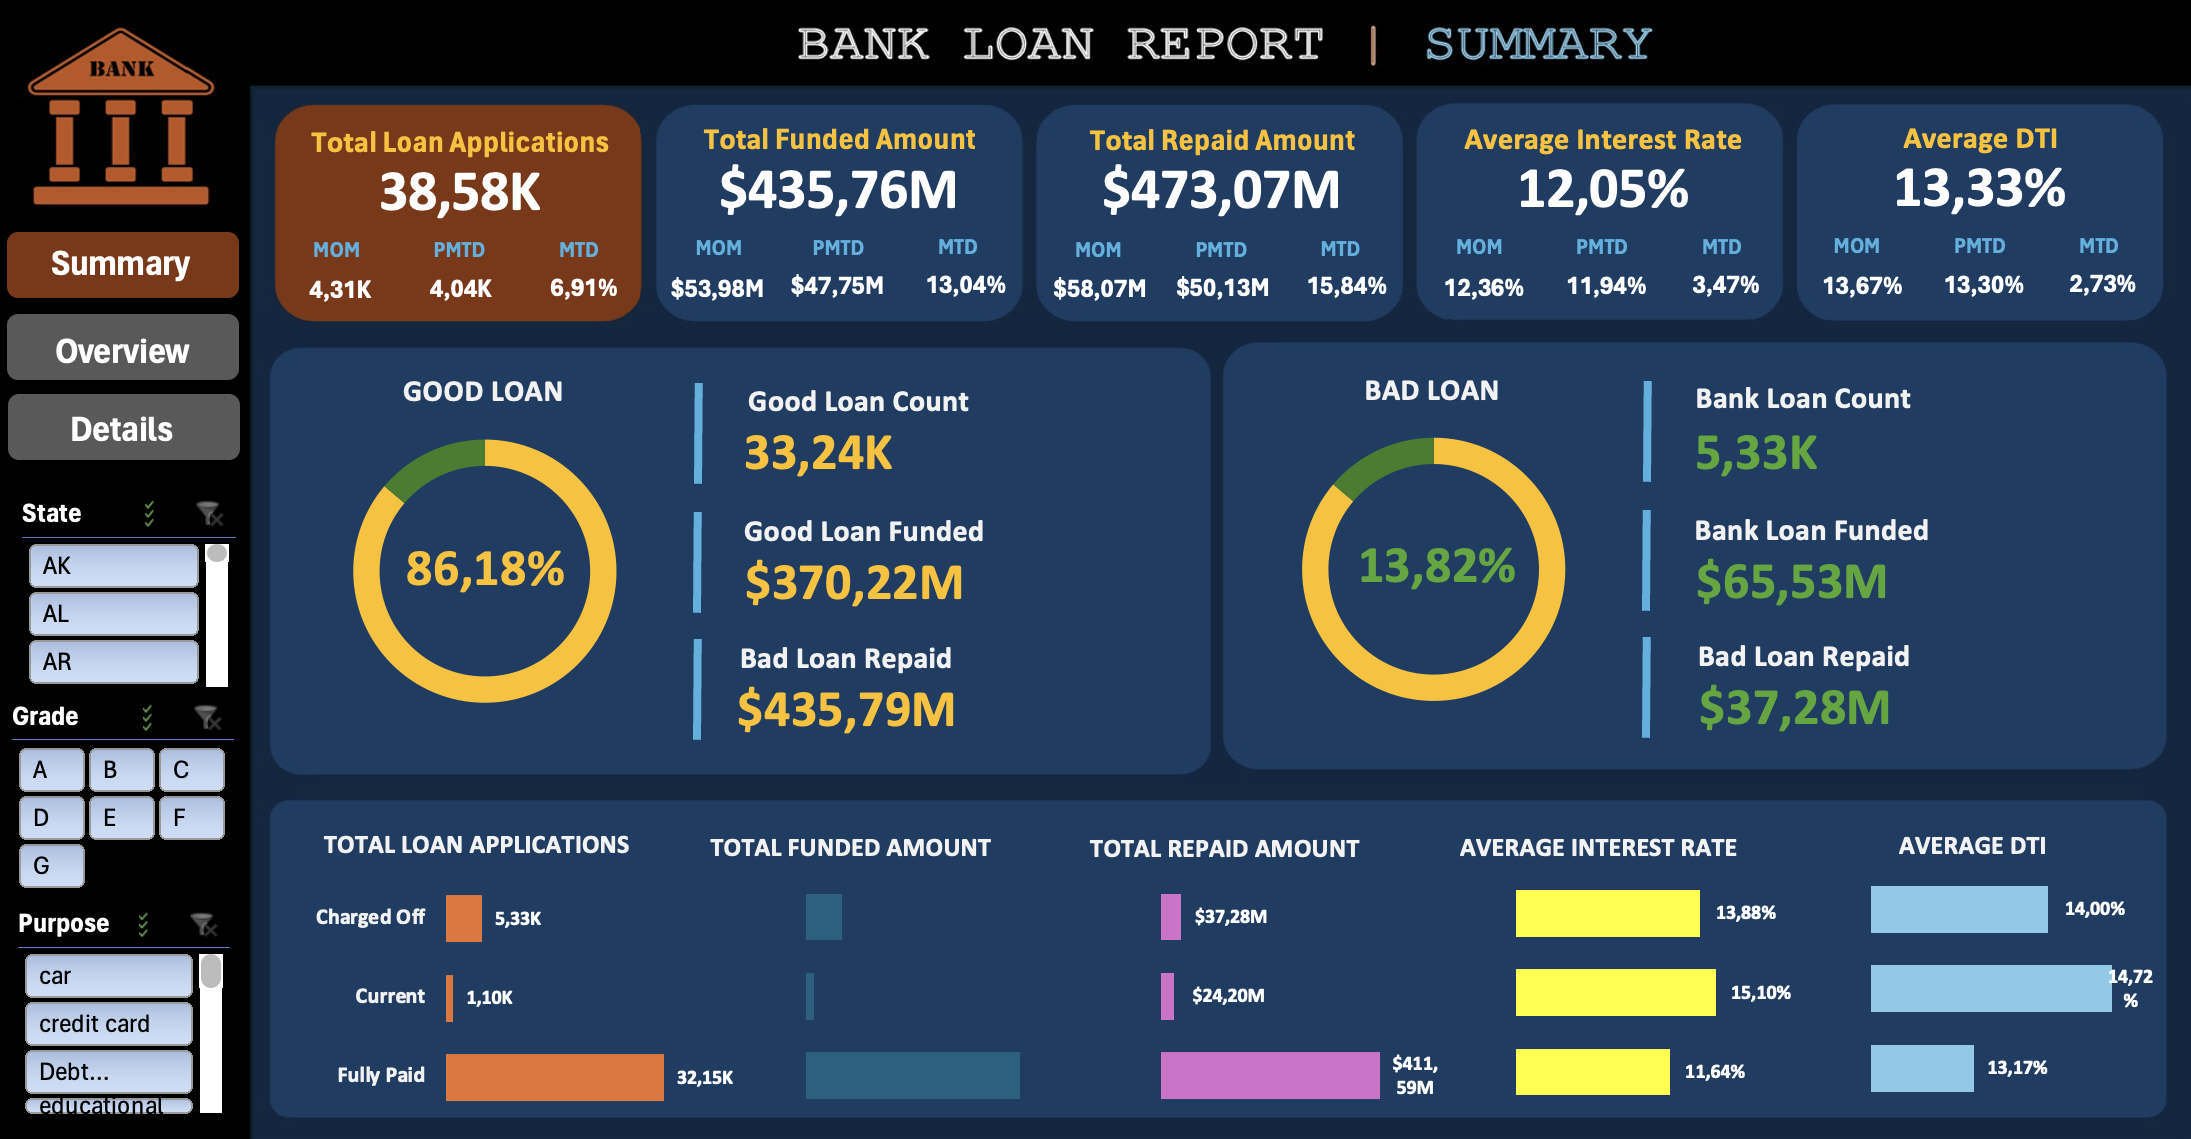

The dashboard page shown, as its layout file describes it:
{"tool":"tableau","page":{"name":"SUMMARY","canvas":[1600,900],"ordinal":2},"visuals":[{"type":"image","param":"/Users/arafathjazeeb/Library/CloudStorage/OneDrive-UniversityofPisa/Data Analyst","box":[8,8,1584,884]},{"type":"worksheet","title":"TRA","mark":"Automatic","box":[770,100,238,81]},{"type":"worksheet","title":"AIR","mark":"Automatic","box":[1037,101,241,77]},{"type":"worksheet","title":"DTI","mark":"Automatic","box":[1307,101,241,72]},{"type":"worksheet","title":"TFA","mark":"Automatic","box":[498,102,241,83]},{"type":"worksheet","title":"TLA","mark":"Automatic","box":[229,103,242,82]},{"type":"text","box":[1328,184,33,30]},{"type":"text","box":[1409,184,39,30]},{"type":"text","box":[1483,184,39,30]},{"type":"text","box":[252,185,33,30]},{"type":"text","box":[333,185,39,30]},{"type":"text","box":[410,185,39,30]},{"type":"text","box":[1065,185,33,30]},{"type":"text","box":[1141,185,39,30]},{"type":"text","box":[1215,185,39,30]},{"type":"text","box":[795,186,33,30]},{"type":"text","box":[869,186,39,30]},{"type":"text","box":[946,186,39,30]},{"type":"text","box":[524,188,33,30]},{"type":"text","box":[601,188,39,30]},{"type":"text","box":[675,188,39,30]},{"type":"worksheet","title":"MTD_AIR","mark":"Automatic","box":[1043,203,77,53]},{"type":"worksheet","title":"PMTD_TLA","mark":"Automatic","box":[310,207,86,43]},{"type":"worksheet","title":"MTD_TFA","mark":"Automatic","box":[501,207,75,46]},{"type":"worksheet","title":"MTD_TRA","mark":"Automatic","box":[768,208,84,43]},{"type":"worksheet","title":"PMTD_AIR","mark":"Automatic","box":[1121,208,84,44]},{"type":"worksheet","title":"PMTD_DTI","mark":"Automatic","box":[1390,208,82,39]},{"type":"dashboard-object","box":[31,209,164,52]},{"type":"worksheet","title":"MOM_TFA","mark":"Automatic","box":[654,209,87,41]},{"type":"worksheet","title":"MTD_DTI","mark":"Automatic","box":[1309,209,73,39]},{"type":"worksheet","title":"PMTD_TFA","mark":"Automatic","box":[581,210,81,39]},{"type":"worksheet","title":"MOM_DTI","mark":"Automatic","box":[1472,210,70,34]},{"type":"worksheet","title":"MTD_TLA","mark":"Automatic","box":[229,211,71,33]},{"type":"worksheet","title":"PMTD_TRA","mark":"Automatic","box":[853,211,76,38]},{"type":"worksheet","title":"MOM_TRA","mark":"Automatic","box":[926,211,79,38]},{"type":"worksheet","title":"MOM_AIR","mark":"Automatic","box":[1197,211,86,36]},{"type":"worksheet","title":"MOM_TLA","mark":"Automatic","box":[392,212,68,32]},{"type":"dashboard-object","box":[30,274,164,52]},{"type":"worksheet","title":"Bad Loan Issued","mark":"Pie","rows":["Calculation_5259571078684729375","Calculation_5259571078684729375"],"box":[911,286,311,306]},{"type":"worksheet","title":"Good Loan Issued","mark":"Pie","rows":["Calculation_5259571078684729375","Calculation_5259571078684729375"],"box":[233,291,311,306]},{"type":"worksheet","title":"Bad Loan Count","mark":"Automatic","box":[1238,315,311,80]},{"type":"worksheet","title":"Good Loan Count","mark":"Automatic","box":[559,318,311,80]},{"type":"dashboard-object","box":[29,339,164,52]},{"type":"worksheet","title":"Bad Loan Funded","mark":"Automatic","box":[1238,409,311,80]},{"type":"worksheet","title":"Good Loan Funded","mark":"Automatic","box":[557,413,311,80]},{"type":"worksheet","title":"Bad Loan %","mark":"Automatic","box":[982,422,173,69]},{"type":"worksheet","title":"Good Loan %","mark":"Automatic","box":[312,428,155,67]},{"type":"worksheet","title":"Bad Loan Repaid","mark":"Automatic","box":[1239,502,311,80]},{"type":"worksheet","title":"Good Loan Repaid","mark":"Automatic","box":[557,506,311,80]},{"type":"filter","title":"Good Loan Issued","param":"[federated.19laxnm011tjax19or1he1sgg5cj].[none:verification_status:nk]","box":[34,617,160,58]},{"type":"worksheet","title":"LOAN STATUS","mark":"Automatic","rows":["loan_status"],"box":[227,636,1324,222]},{"type":"filter","title":"Good Loan Issued","param":"[federated.19laxnm011tjax19or1he1sgg5cj].[none:address_state:nk]","box":[34,675,160,54]},{"type":"filter","title":"Good Loan Issued","param":"[federated.19laxnm011tjax19or1he1sgg5cj].[none:grade:nk]","box":[33,736,160,49]},{"type":"filter","title":"Good Loan Issued","param":"[federated.19laxnm011tjax19or1he1sgg5cj].[none:purpose:nk]","box":[32,795,160,60]}]}

Visuals, with their boxes on the page's 1600x900 design canvas (x1, y1, x2, y2). These are canvas units, not pixel positions in the 2191x1139 screenshot, which may show the page scaled, cropped or inside an application window:
image: bbox=[8, 8, 1592, 892]
"TRA" worksheet: bbox=[770, 100, 1008, 181]
"AIR" worksheet: bbox=[1037, 101, 1278, 178]
"DTI" worksheet: bbox=[1307, 101, 1548, 173]
"TFA" worksheet: bbox=[498, 102, 739, 185]
"TLA" worksheet: bbox=[229, 103, 471, 185]
text: bbox=[1328, 184, 1361, 214]
text: bbox=[1409, 184, 1448, 214]
text: bbox=[1483, 184, 1522, 214]
text: bbox=[252, 185, 285, 215]
text: bbox=[333, 185, 372, 215]
text: bbox=[410, 185, 449, 215]
text: bbox=[1065, 185, 1098, 215]
text: bbox=[1141, 185, 1180, 215]
text: bbox=[1215, 185, 1254, 215]
text: bbox=[795, 186, 828, 216]
text: bbox=[869, 186, 908, 216]
text: bbox=[946, 186, 985, 216]
text: bbox=[524, 188, 557, 218]
text: bbox=[601, 188, 640, 218]
text: bbox=[675, 188, 714, 218]
"MTD_AIR" worksheet: bbox=[1043, 203, 1120, 256]
"PMTD_TLA" worksheet: bbox=[310, 207, 396, 250]
"MTD_TFA" worksheet: bbox=[501, 207, 576, 253]
"MTD_TRA" worksheet: bbox=[768, 208, 852, 251]
"PMTD_AIR" worksheet: bbox=[1121, 208, 1205, 252]
"PMTD_DTI" worksheet: bbox=[1390, 208, 1472, 247]
dashboard-object: bbox=[31, 209, 195, 261]
"MOM_TFA" worksheet: bbox=[654, 209, 741, 250]
"MTD_DTI" worksheet: bbox=[1309, 209, 1382, 248]
"PMTD_TFA" worksheet: bbox=[581, 210, 662, 249]
"MOM_DTI" worksheet: bbox=[1472, 210, 1542, 244]
"MTD_TLA" worksheet: bbox=[229, 211, 300, 244]
"PMTD_TRA" worksheet: bbox=[853, 211, 929, 249]
"MOM_TRA" worksheet: bbox=[926, 211, 1005, 249]
"MOM_AIR" worksheet: bbox=[1197, 211, 1283, 247]
"MOM_TLA" worksheet: bbox=[392, 212, 460, 244]
dashboard-object: bbox=[30, 274, 194, 326]
"Bad Loan Issued" worksheet (Pie marks): bbox=[911, 286, 1222, 592]
"Good Loan Issued" worksheet (Pie marks): bbox=[233, 291, 544, 597]
"Bad Loan Count" worksheet: bbox=[1238, 315, 1549, 395]
"Good Loan Count" worksheet: bbox=[559, 318, 870, 398]
dashboard-object: bbox=[29, 339, 193, 391]
"Bad Loan Funded" worksheet: bbox=[1238, 409, 1549, 489]
"Good Loan Funded" worksheet: bbox=[557, 413, 868, 493]
"Bad Loan %" worksheet: bbox=[982, 422, 1155, 491]
"Good Loan %" worksheet: bbox=[312, 428, 467, 495]
"Bad Loan Repaid" worksheet: bbox=[1239, 502, 1550, 582]
"Good Loan Repaid" worksheet: bbox=[557, 506, 868, 586]
"Good Loan Issued" filter: bbox=[34, 617, 194, 675]
"LOAN STATUS" worksheet: bbox=[227, 636, 1551, 858]
"Good Loan Issued" filter: bbox=[34, 675, 194, 729]
"Good Loan Issued" filter: bbox=[33, 736, 193, 785]
"Good Loan Issued" filter: bbox=[32, 795, 192, 855]
